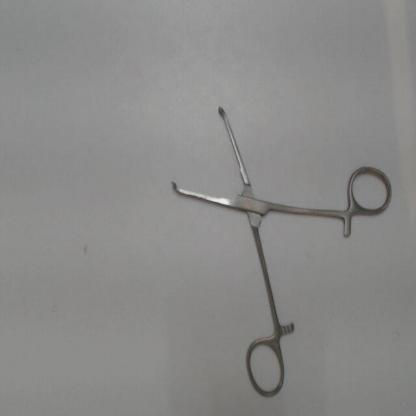Allis Tissue Forceps: (164, 92, 394, 405)
